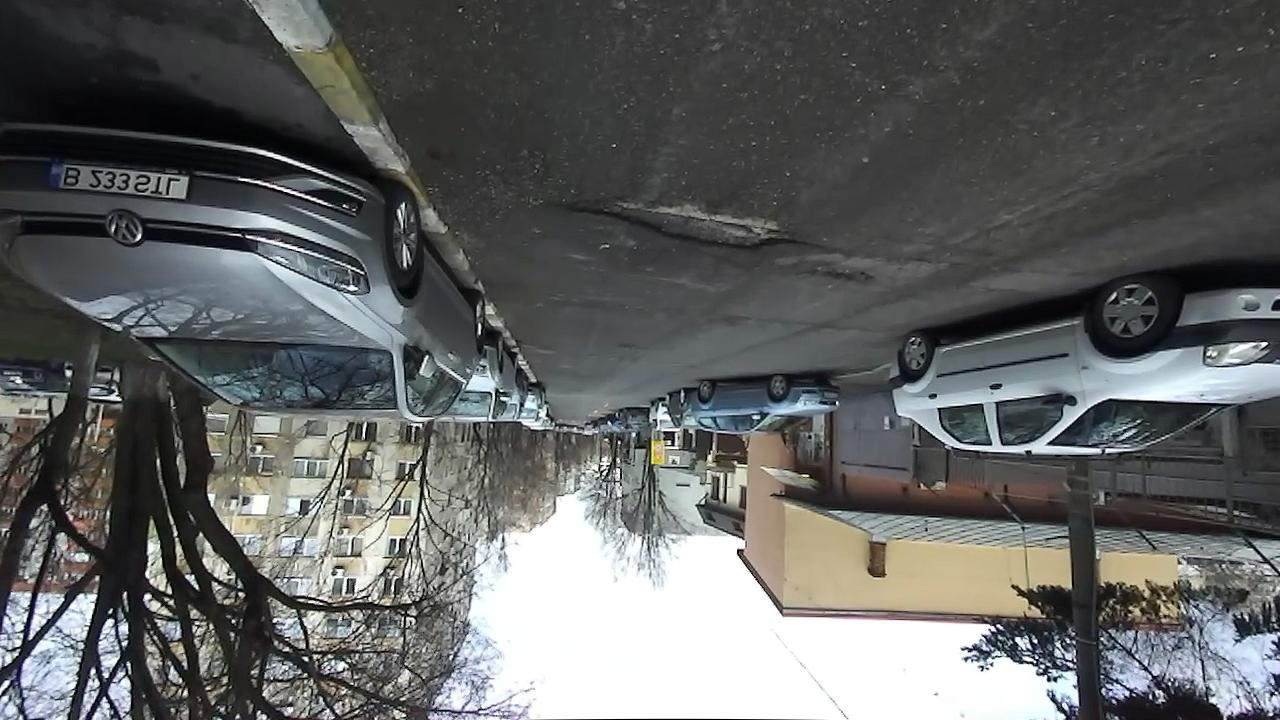pothole: (561, 197, 828, 253), (800, 262, 881, 291)
